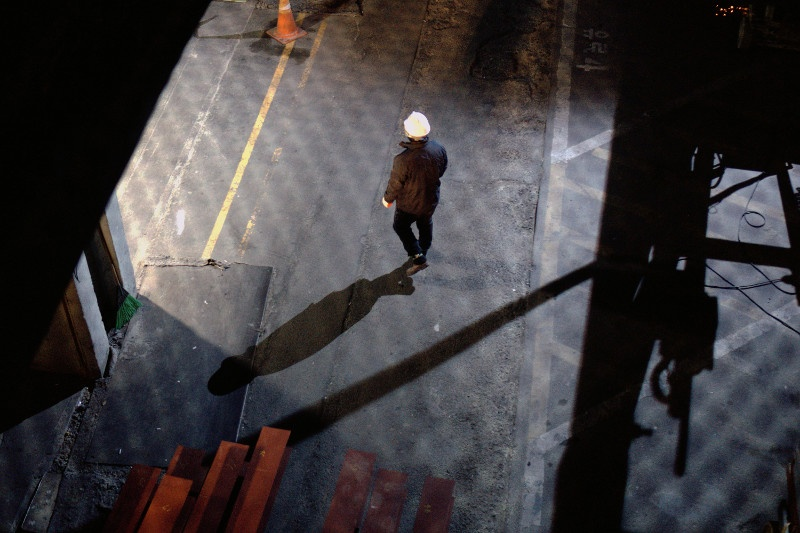white: (399, 109, 430, 146)
